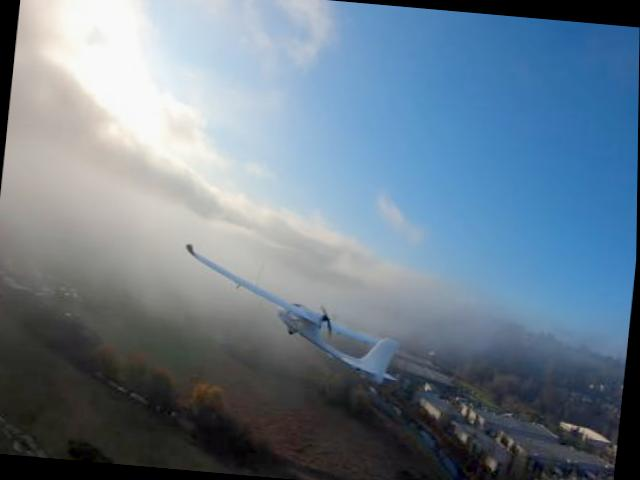uav: (163, 234, 417, 404)
